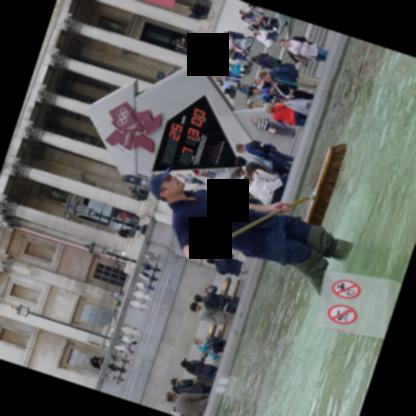backpack: (250, 139, 273, 154), (272, 62, 291, 72), (245, 22, 255, 30)
handbag: (259, 119, 277, 134), (294, 54, 308, 66), (207, 339, 217, 348), (185, 42, 189, 46)
